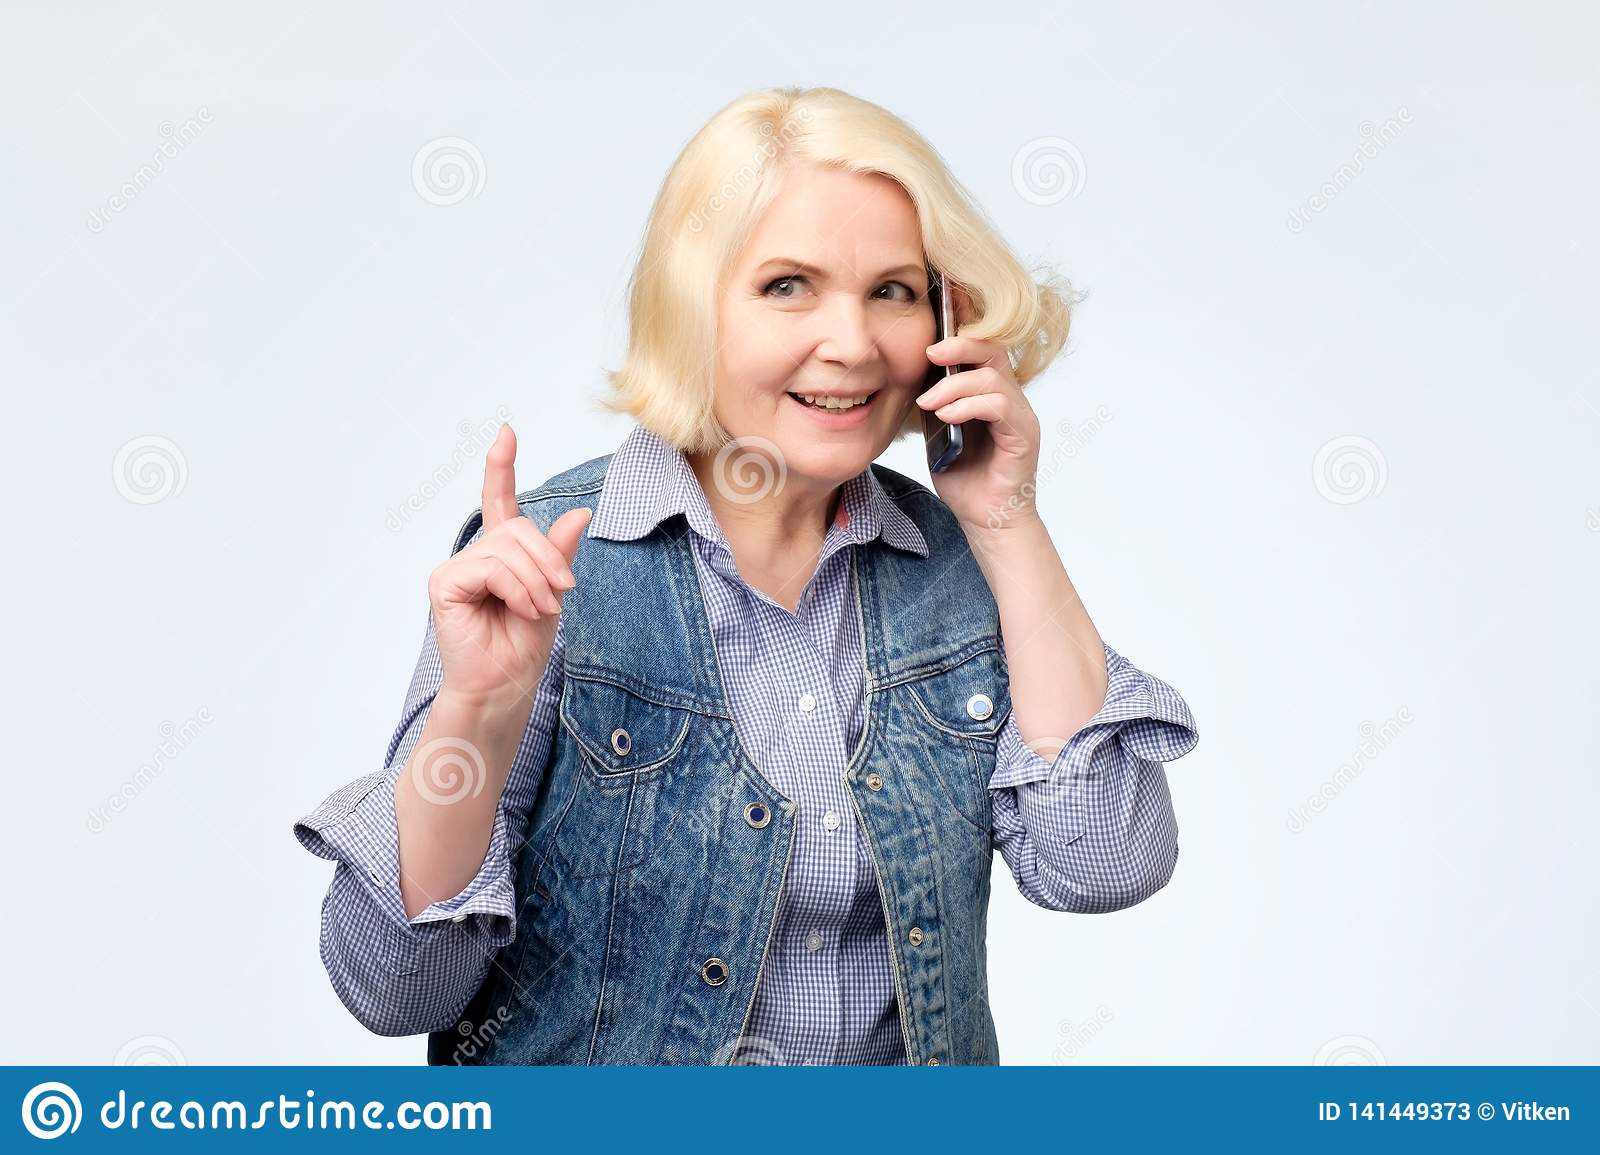phone: (914, 255, 976, 477)
talk: (727, 236, 1041, 561)
